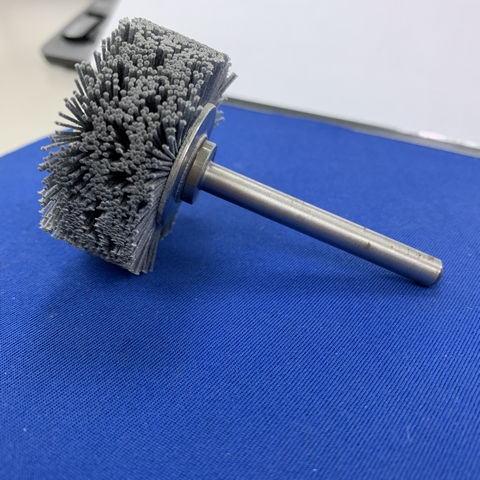Wheel Brush: (40, 16, 444, 294), (49, 16, 422, 297), (79, 16, 449, 291), (28, 6, 262, 294)
